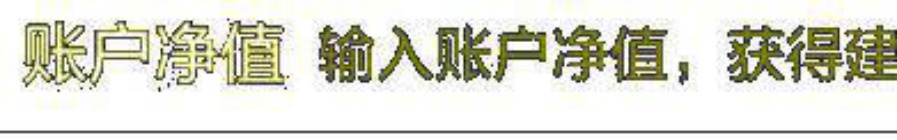EditText: (1, 1, 896, 139)
